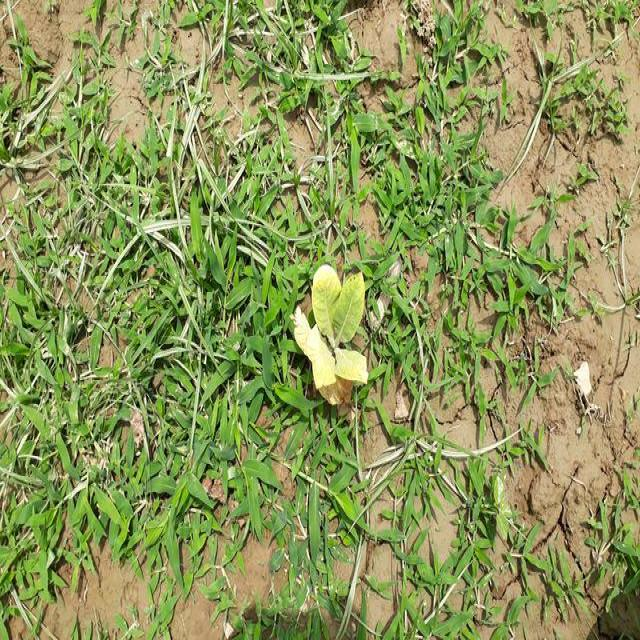crop: (289, 256, 380, 410)
